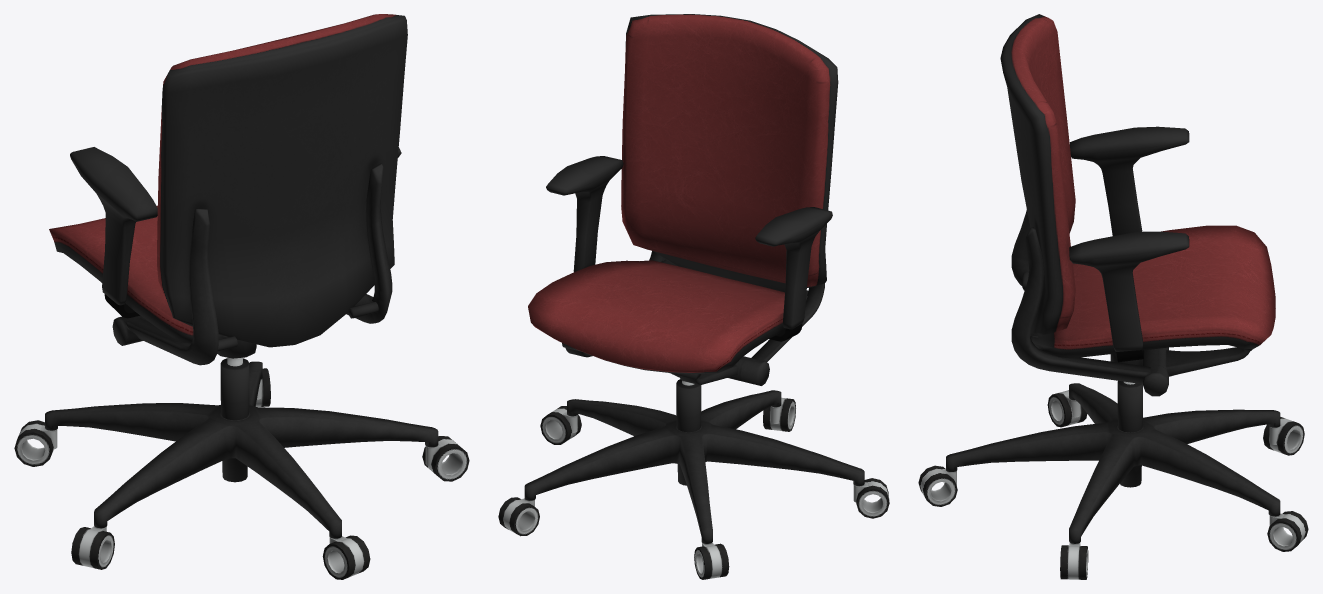
File: officechair.dae
3 renders of one model, left to right at view 1: azimuth 30°, elevation 25°; view 2: azimuth 150°, elevation 25°; view 3: azimuth 270°, elevation 25°, orthographic. The views are drawn at different scales.
Parts seen in each view (by area): view 1: Office_Chair_Final_PBR; view 2: Office_Chair_Final_PBR; view 3: Office_Chair_Final_PBR.
Part boxes in pixels (x1,y1,x2,y2): Office_Chair_Final_PBR: (14,14,469,579); Office_Chair_Final_PBR: (498,14,889,579); Office_Chair_Final_PBR: (918,14,1308,579).
Size of the model in its own units: 89.55 by 86.29 by 110.
1 material, 1 textured.
